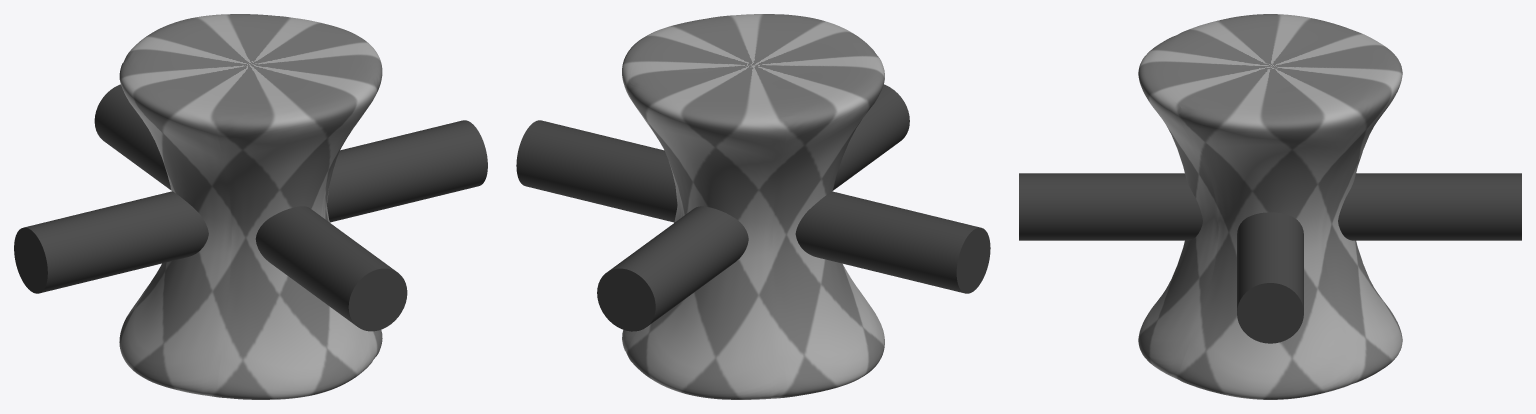
3 views of the same model, side by side, from view 1: azimuth 30°, elevation 25°; view 2: azimuth 150°, elevation 25°; view 3: azimuth 270°, elevation 25° (orthographic).
Visible parts, largest first — view 1: Body(Concave)+Colour(7000000_5000000)+Pattern(Diamond)+_b174, Arm002, Arm001, Arm004, Arm003; view 2: Body(Concave)+Colour(7000000_5000000)+Pattern(Diamond)+_b174, Arm002, Arm001, Arm003, Arm004; view 3: Body(Concave)+Colour(7000000_5000000)+Pattern(Diamond)+_b174, Arm004, Arm003, Arm001.
Boxes of the visible parts, left/top/right/bottom form: Body(Concave)+Colour(7000000_5000000)+Pattern(Diamond)+_b174: left=119, top=14, right=382, bottom=399; Arm002: left=14, top=191, right=208, bottom=293; Arm001: left=327, top=120, right=487, bottom=222; Arm004: left=255, top=206, right=407, bottom=331; Arm003: left=94, top=84, right=171, bottom=189; Body(Concave)+Colour(7000000_5000000)+Pattern(Diamond)+_b174: left=622, top=14, right=884, bottom=399; Arm002: left=795, top=191, right=990, bottom=293; Arm001: left=516, top=120, right=677, bottom=222; Arm003: left=597, top=206, right=748, bottom=331; Arm004: left=833, top=84, right=909, bottom=190; Body(Concave)+Colour(7000000_5000000)+Pattern(Diamond)+_b174: left=1138, top=14, right=1402, bottom=399; Arm004: left=1019, top=173, right=1202, bottom=240; Arm003: left=1338, top=173, right=1521, bottom=240; Arm001: left=1237, top=212, right=1303, bottom=343.
Size of the model in its own units: 1.52 by 0.9474 by 1.52.
Materials: 2 (2 with a texture image).
